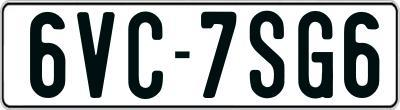6: (28, 12, 68, 103), (343, 10, 378, 96)
7: (201, 10, 241, 102)
C: (125, 12, 161, 104)
G: (296, 9, 334, 100)
S: (249, 11, 285, 101)
V: (76, 9, 116, 98)
